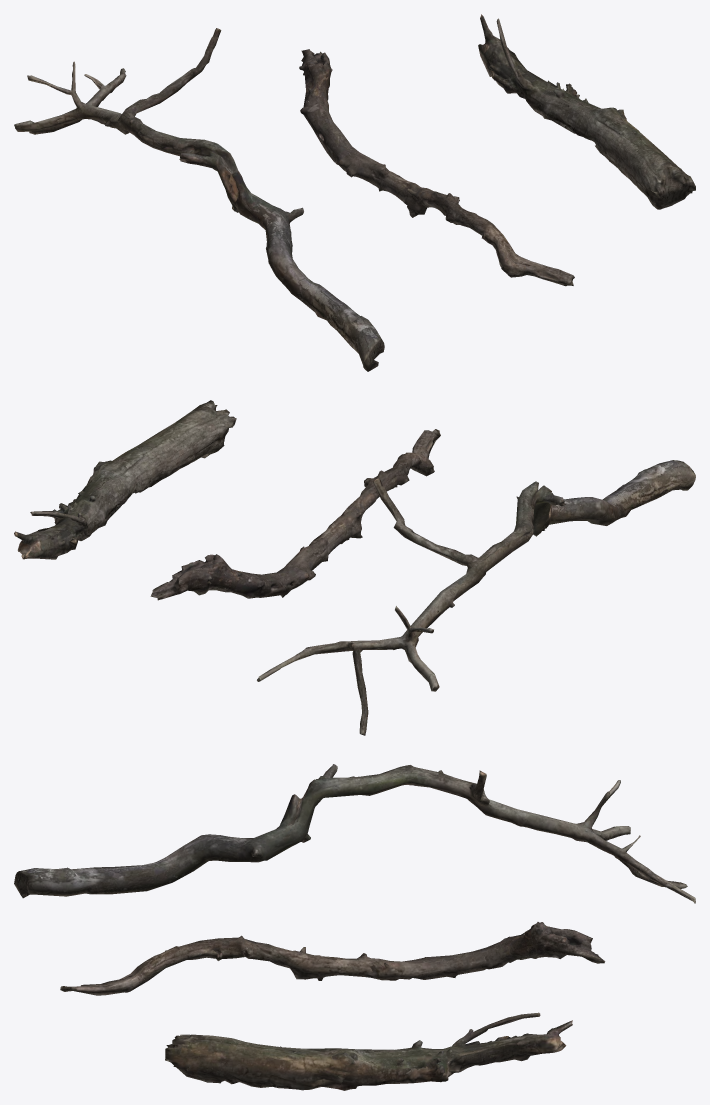
File: dry_branches_medium_01.glb
3 views of the same model, one above another, from view 1: azimuth 30°, elevation 25°; view 2: azimuth 150°, elevation 25°; view 3: azimuth 270°, elevation 25° (orthographic). The views are drawn at different scales.
Parts seen in each view (by area): view 1: dry_branches_medium_01_a, dry_branches_medium_01_c, dry_branches_medium_01_b; view 2: dry_branches_medium_01_a, dry_branches_medium_01_c, dry_branches_medium_01_b; view 3: dry_branches_medium_01_a, dry_branches_medium_01_c, dry_branches_medium_01_b.
Part boxes in pixels (bbox=[...]): dry_branches_medium_01_a: bbox=[14, 28, 384, 371]; dry_branches_medium_01_c: bbox=[478, 14, 695, 209]; dry_branches_medium_01_b: bbox=[299, 49, 574, 286]; dry_branches_medium_01_a: bbox=[257, 460, 695, 735]; dry_branches_medium_01_c: bbox=[14, 400, 236, 559]; dry_branches_medium_01_b: bbox=[150, 429, 440, 600]; dry_branches_medium_01_a: bbox=[14, 764, 695, 903]; dry_branches_medium_01_c: bbox=[165, 1012, 572, 1090]; dry_branches_medium_01_b: bbox=[60, 922, 605, 995].
Size of the model in its own units: 1.06 by 0.341 by 1.3.
1 material, 1 textured.
